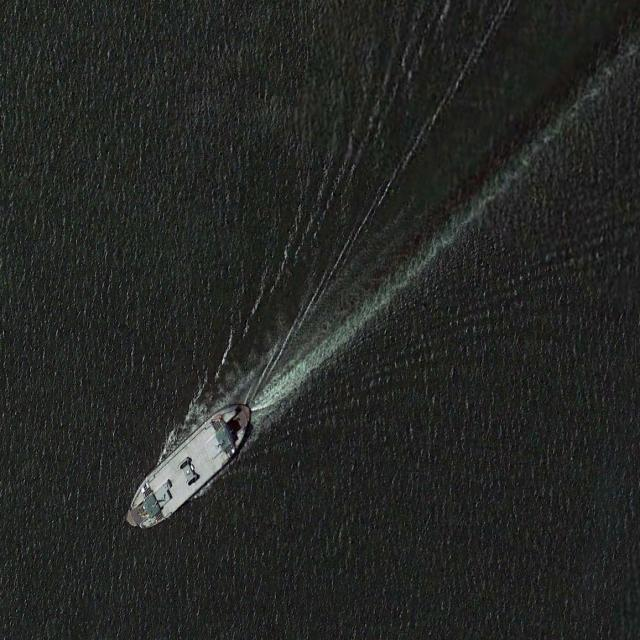RoRo: (118, 389, 261, 544)
